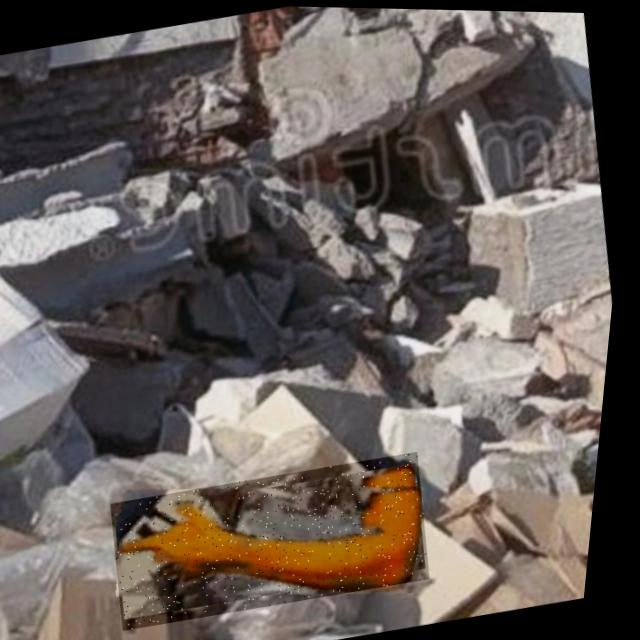Person in Rubble: (111, 444, 451, 635)
